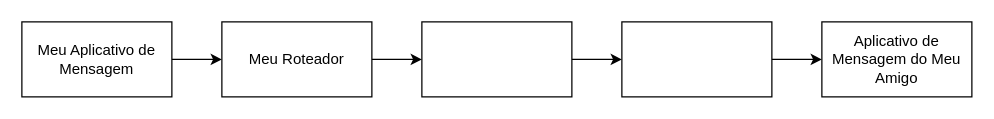
The diagram is 994 pixels wide and 119 high, and some of its shapes have lost their labels. Here are the shapes that lost their labels. From the top down, the centre of each, then its label:
pixel 496 59: Servidor do Aplicativo de Mensagem
pixel 696 59: Roteador do Meu Amigo
